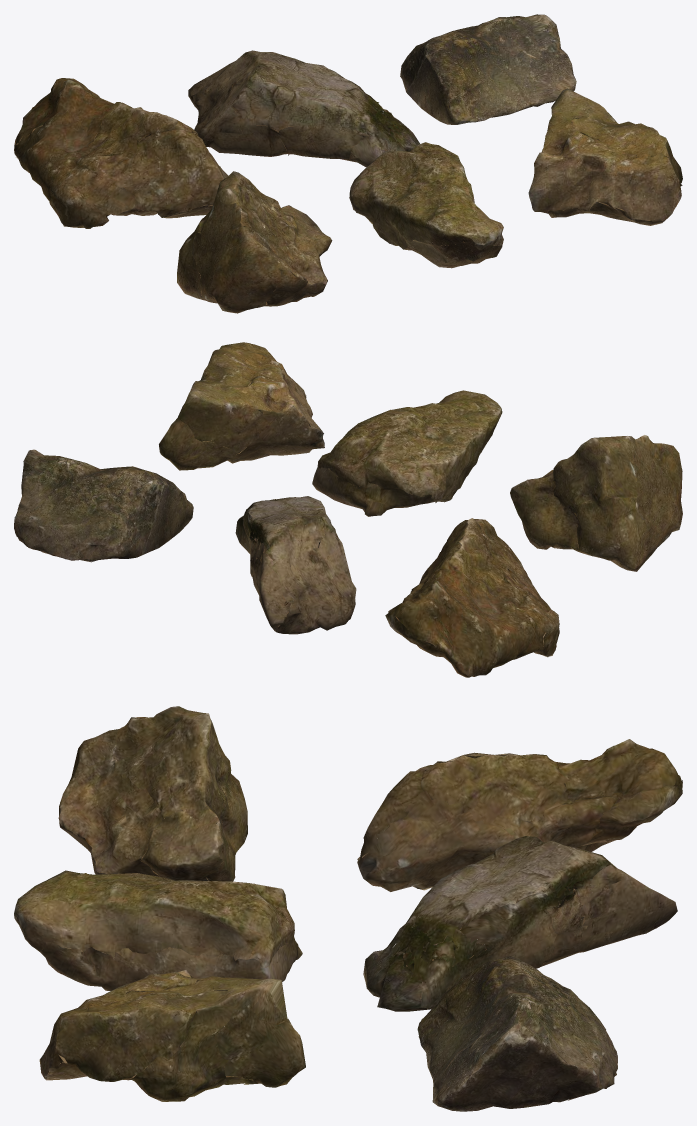
File: rock_moss_set_01.gltf
3 renders of one model, top to bottom at view 1: azimuth 30°, elevation 25°; view 2: azimuth 150°, elevation 25°; view 3: azimuth 270°, elevation 25°, orthographic. The views are drawn at different scales.
Visible parts, largest first — view 1: rock_moss_set_01_rock01; view 2: rock_moss_set_01_rock01; view 3: rock_moss_set_01_rock01.
Boxes of the visible parts, x1,y1,x2,y2 form: rock_moss_set_01_rock01: [14, 14, 682, 313]; rock_moss_set_01_rock01: [14, 342, 682, 677]; rock_moss_set_01_rock01: [14, 706, 682, 1111].
Bounding box in the file's own units: 8 × 1.77 × 6.94.
Materials: 1 (1 with a texture image).
